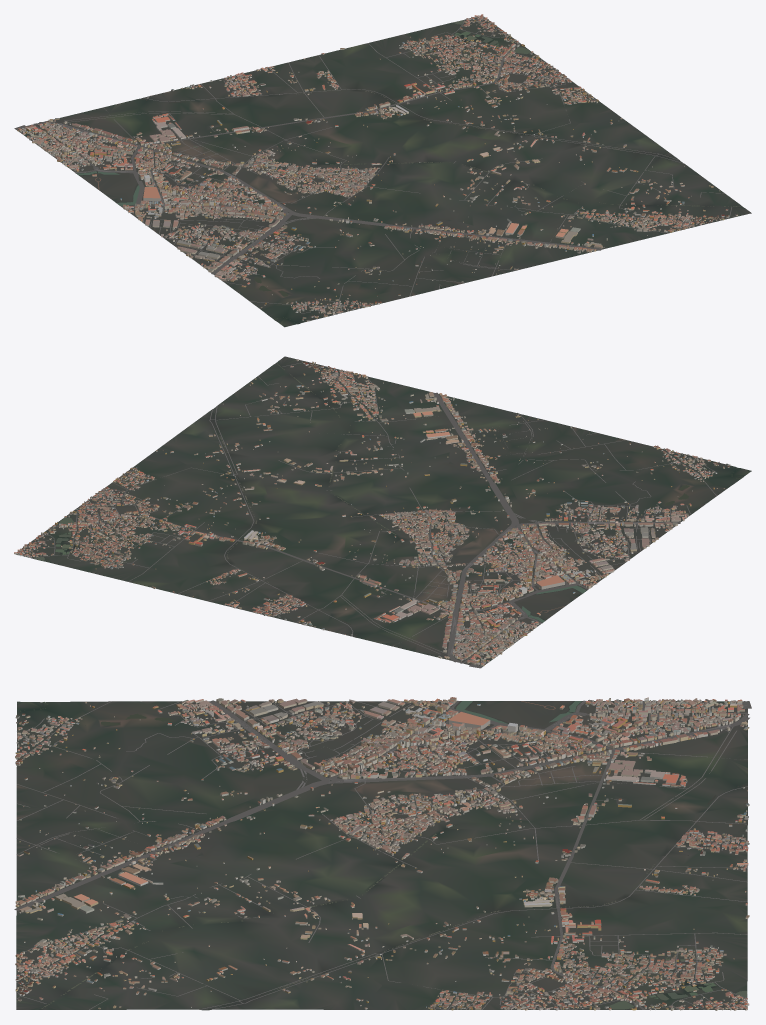
3 views of the same model, one above another, from view 1: azimuth 30°, elevation 25°; view 2: azimuth 150°, elevation 25°; view 3: azimuth 270°, elevation 25° (orthographic). The views are drawn at different scales.
Parts seen in each view (by area): view 1: ground, buildings, roads, water; view 2: ground, buildings, roads, water; view 3: ground, buildings, roads, water.
Boxes of the visible parts, left/top/right/bottom form: ground: left=19, top=15, right=751, bottom=327; buildings: left=17, top=14, right=737, bottom=321; roads: left=14, top=17, right=736, bottom=314; water: left=76, top=20, right=740, bottom=323; ground: left=16, top=356, right=751, bottom=665; buildings: left=14, top=359, right=730, bottom=665; roads: left=22, top=360, right=716, bottom=668; water: left=33, top=363, right=741, bottom=636; ground: left=16, top=701, right=747, bottom=1010; buildings: left=15, top=697, right=749, bottom=1010; roads: left=14, top=700, right=751, bottom=1009; water: left=20, top=701, right=747, bottom=1009.
Bounding box in the file's own units: 2817 × 35.58 × 2830.
